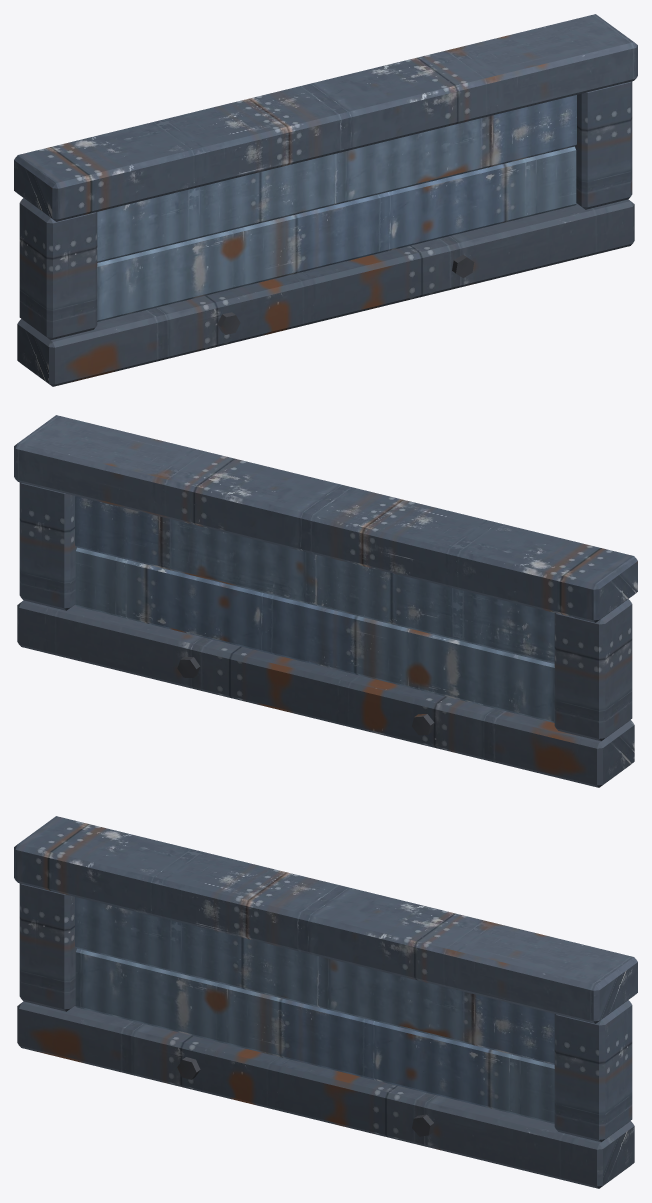
File: alcak_duvar.glb
3 views of the same model, one above another, from view 1: azimuth 30°, elevation 25°; view 2: azimuth 150°, elevation 25°; view 3: azimuth 330°, elevation 25° (orthographic).
Visible parts, largest first — view 1: alcak_duvar; view 2: alcak_duvar; view 3: alcak_duvar.
Part boxes in pixels (x1,y1,x2,y2): alcak_duvar: [14, 14, 637, 386]; alcak_duvar: [14, 415, 637, 787]; alcak_duvar: [14, 816, 637, 1188].
Size of the model in its own units: 3 by 1.01 by 0.39.
Materials: 1 (1 with a texture image).
